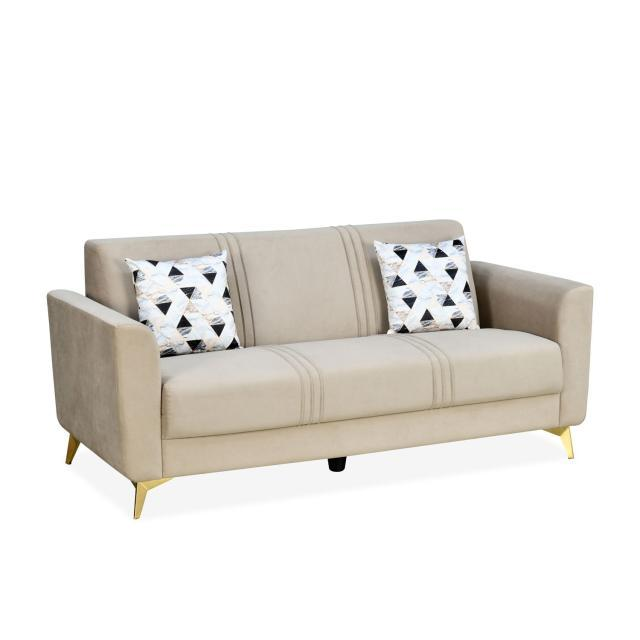sofa: (46, 217, 594, 519)
